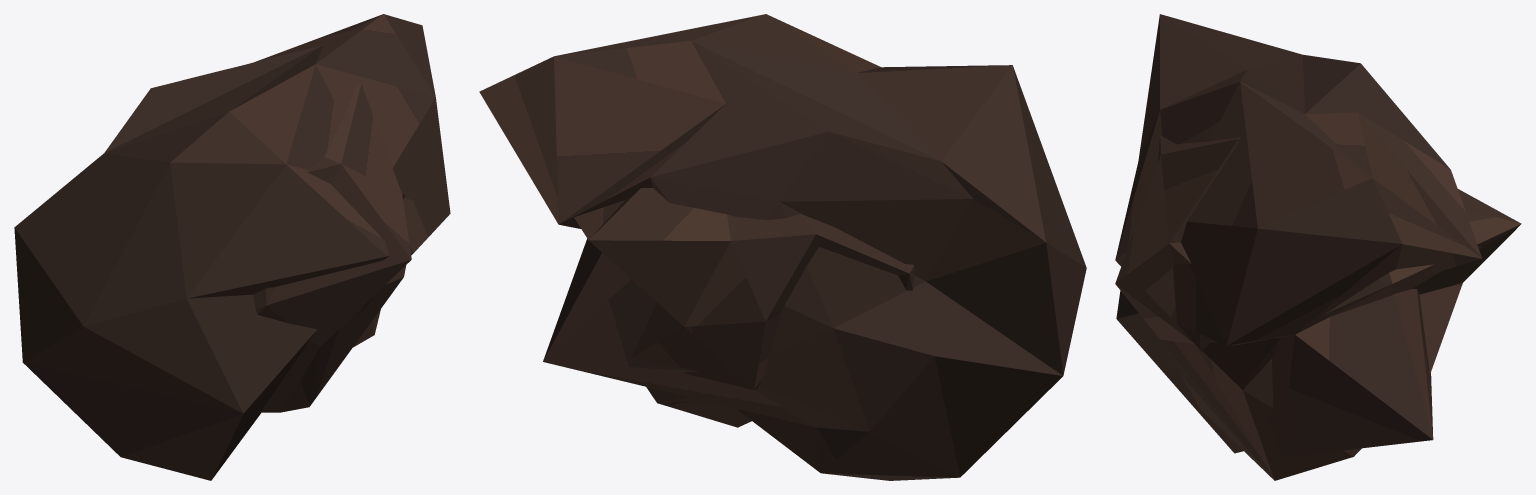
The model's file is obstacles.fbx.
3 views of the same model, side by side, from view 1: azimuth 30°, elevation 25°; view 2: azimuth 150°, elevation 25°; view 3: azimuth 270°, elevation 25° (orthographic). The views are drawn at different scales.
Parts seen in each view (by area): view 1: Obstacle_1, Obstacle_0; view 2: Obstacle_1, Obstacle_0; view 3: Obstacle_1, Obstacle_0.
Boxes of the visible parts, x1,y1,x2,y2 form: Obstacle_1: (14,14,450,480); Obstacle_0: (253,83,411,412); Obstacle_1: (479,14,1086,480); Obstacle_0: (574,188,914,427); Obstacle_1: (1115,14,1482,457); Obstacle_0: (1115,135,1521,480).
Size of the model in its own units: 9.28 by 7.52 by 6.45.
